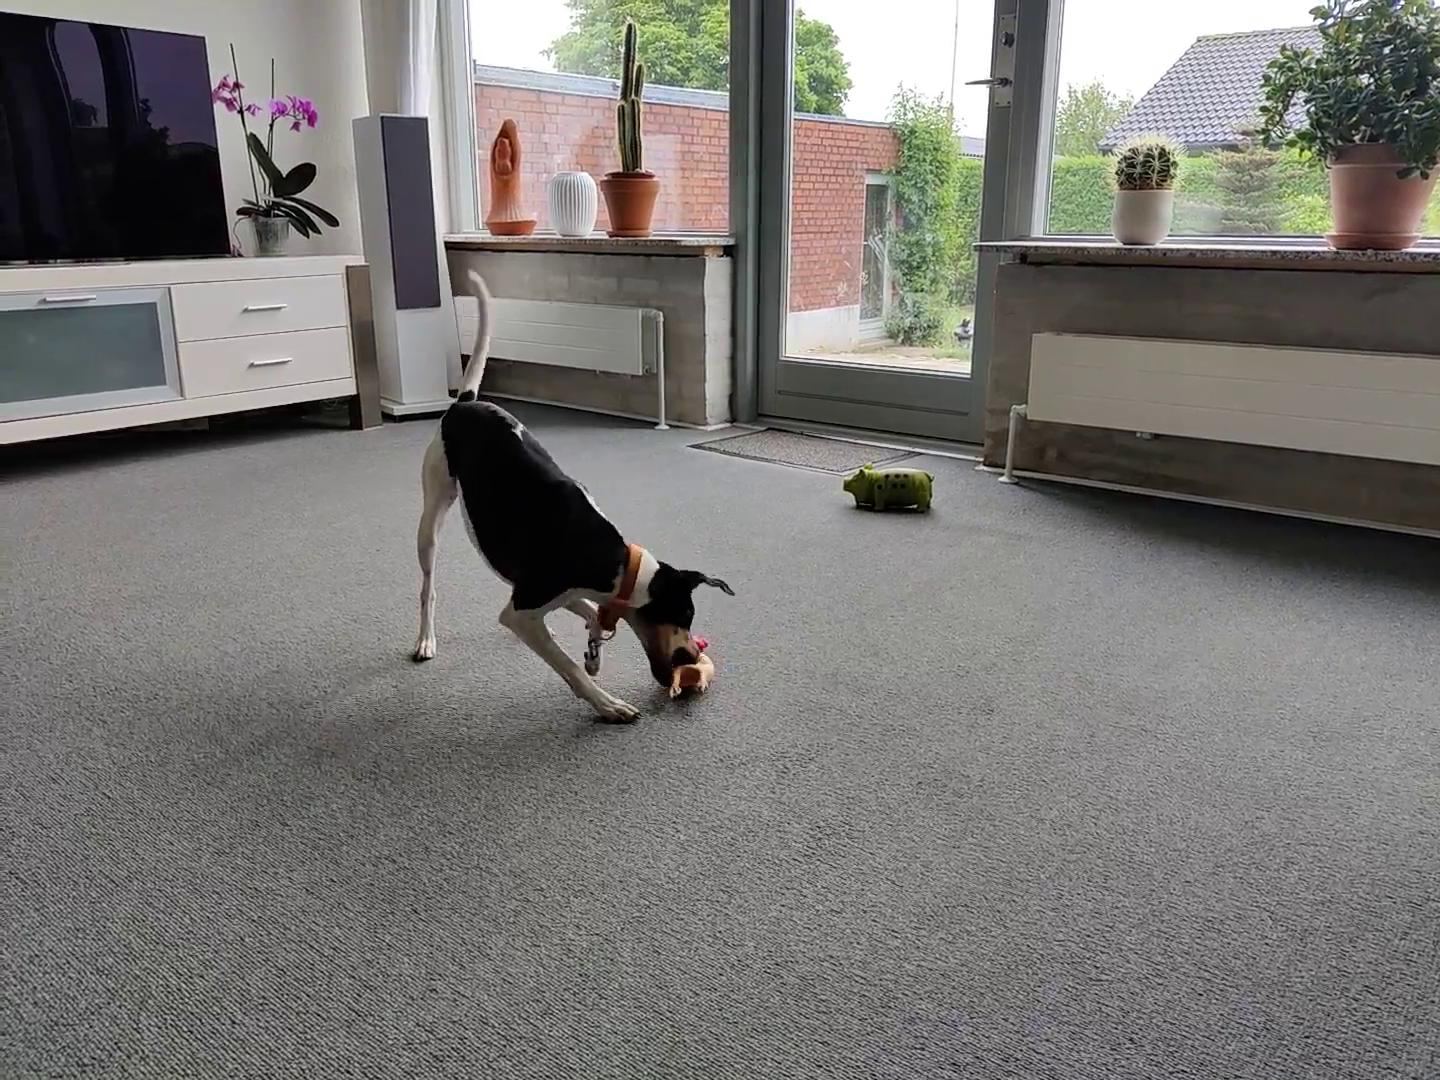Dog: (399, 265, 738, 729)
